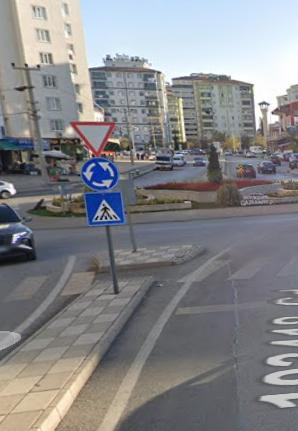crossroads: (81, 156, 121, 192)
